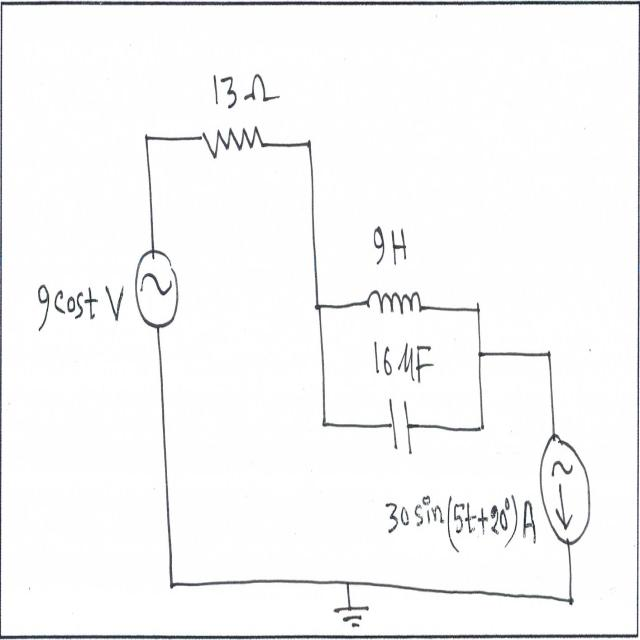ac_current: (133, 242, 179, 338)
capacitor: (386, 382, 414, 462)
current_source: (538, 421, 594, 556)
ground: (333, 598, 374, 638)
inductor: (363, 279, 427, 324)
resistor: (196, 117, 267, 173)
